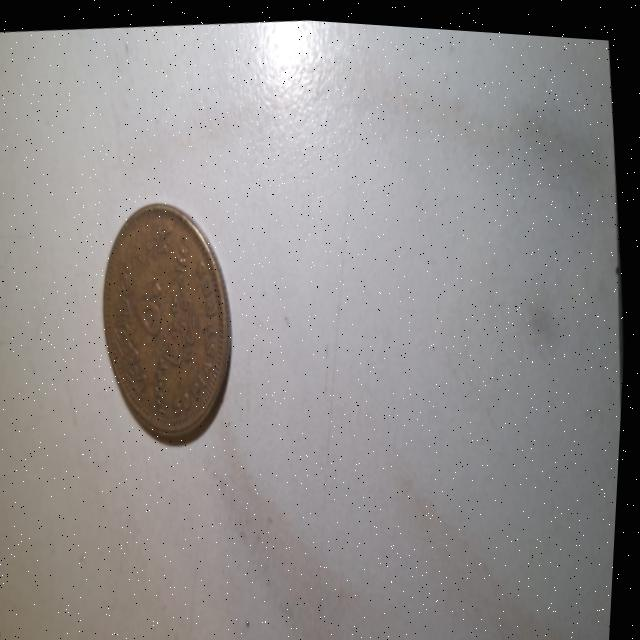Half Pound: (77, 168, 267, 463)
